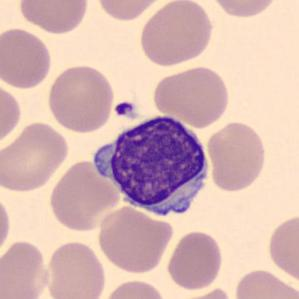Lymphocyte: (87, 110, 216, 222)
Platelets: (112, 100, 138, 118)
RBC: (46, 158, 121, 233), (96, 204, 175, 275), (136, 0, 215, 68), (151, 63, 232, 128), (0, 119, 70, 194), (45, 62, 116, 134), (204, 119, 268, 194), (43, 238, 108, 299), (165, 229, 225, 291), (1, 26, 54, 90), (0, 238, 51, 299), (16, 0, 90, 36), (265, 212, 298, 285), (232, 267, 298, 299), (93, 0, 169, 22), (0, 79, 23, 148), (100, 277, 167, 299), (206, 0, 282, 19), (0, 189, 13, 258), (169, 286, 237, 299)
